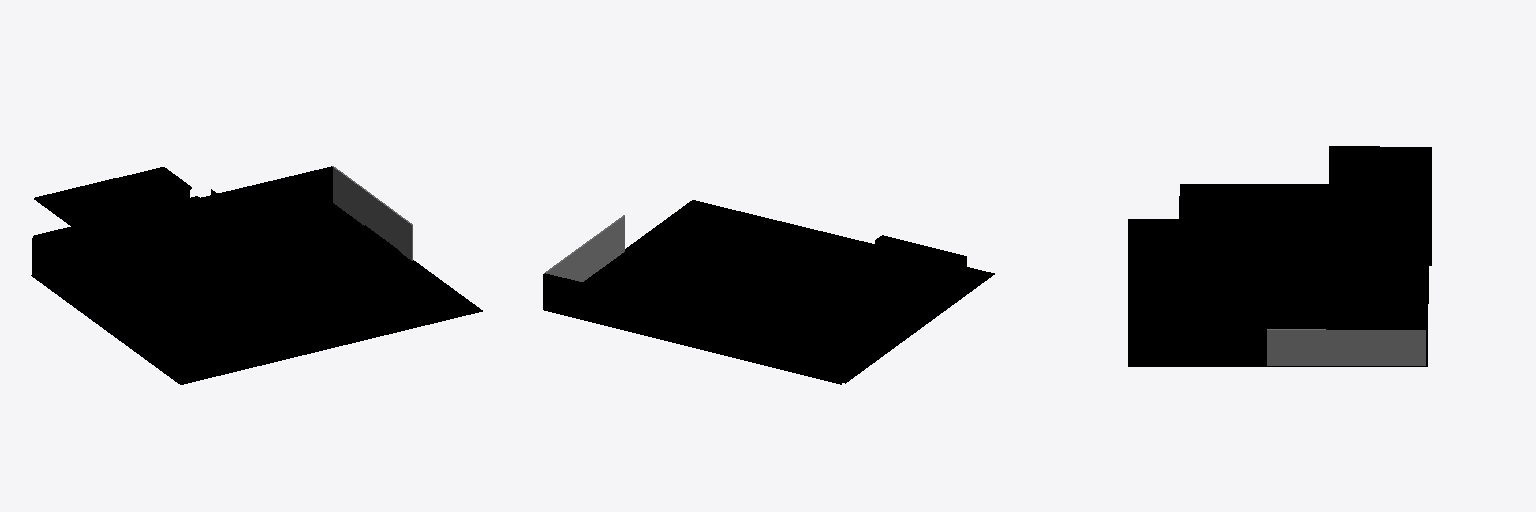
Rendered from apto5.obj.
3 views of the same model, side by side, from view 1: azimuth 30°, elevation 25°; view 2: azimuth 150°, elevation 25°; view 3: azimuth 270°, elevation 25° (orthographic).
Parts seen in each view (by area): view 1: directionalLight7, directionalLight6 polySurface84, polySurface83 directionalLight6, directionalLight6 polySurface89; view 2: directionalLight7, directionalLight6 polySurface84; view 3: directionalLight7, directionalLight6 polySurface84, directionalLight6 polySurface89.
Boxes of the visible parts, box(x1,y1,x2,y2) form: directionalLight7: box(31, 166, 482, 384); directionalLight6 polySurface84: box(34, 238, 158, 365); polySurface83 directionalLight6: box(83, 260, 143, 300); directionalLight6 polySurface89: box(163, 275, 197, 322); directionalLight7: box(543, 200, 994, 384); directionalLight6 polySurface84: box(841, 256, 966, 382); directionalLight7: box(1128, 146, 1431, 366); directionalLight6 polySurface84: box(1180, 184, 1328, 220); directionalLight6 polySurface89: box(1221, 213, 1287, 247).
Bounding box in the file's own units: 2544 × 615 × 2214.